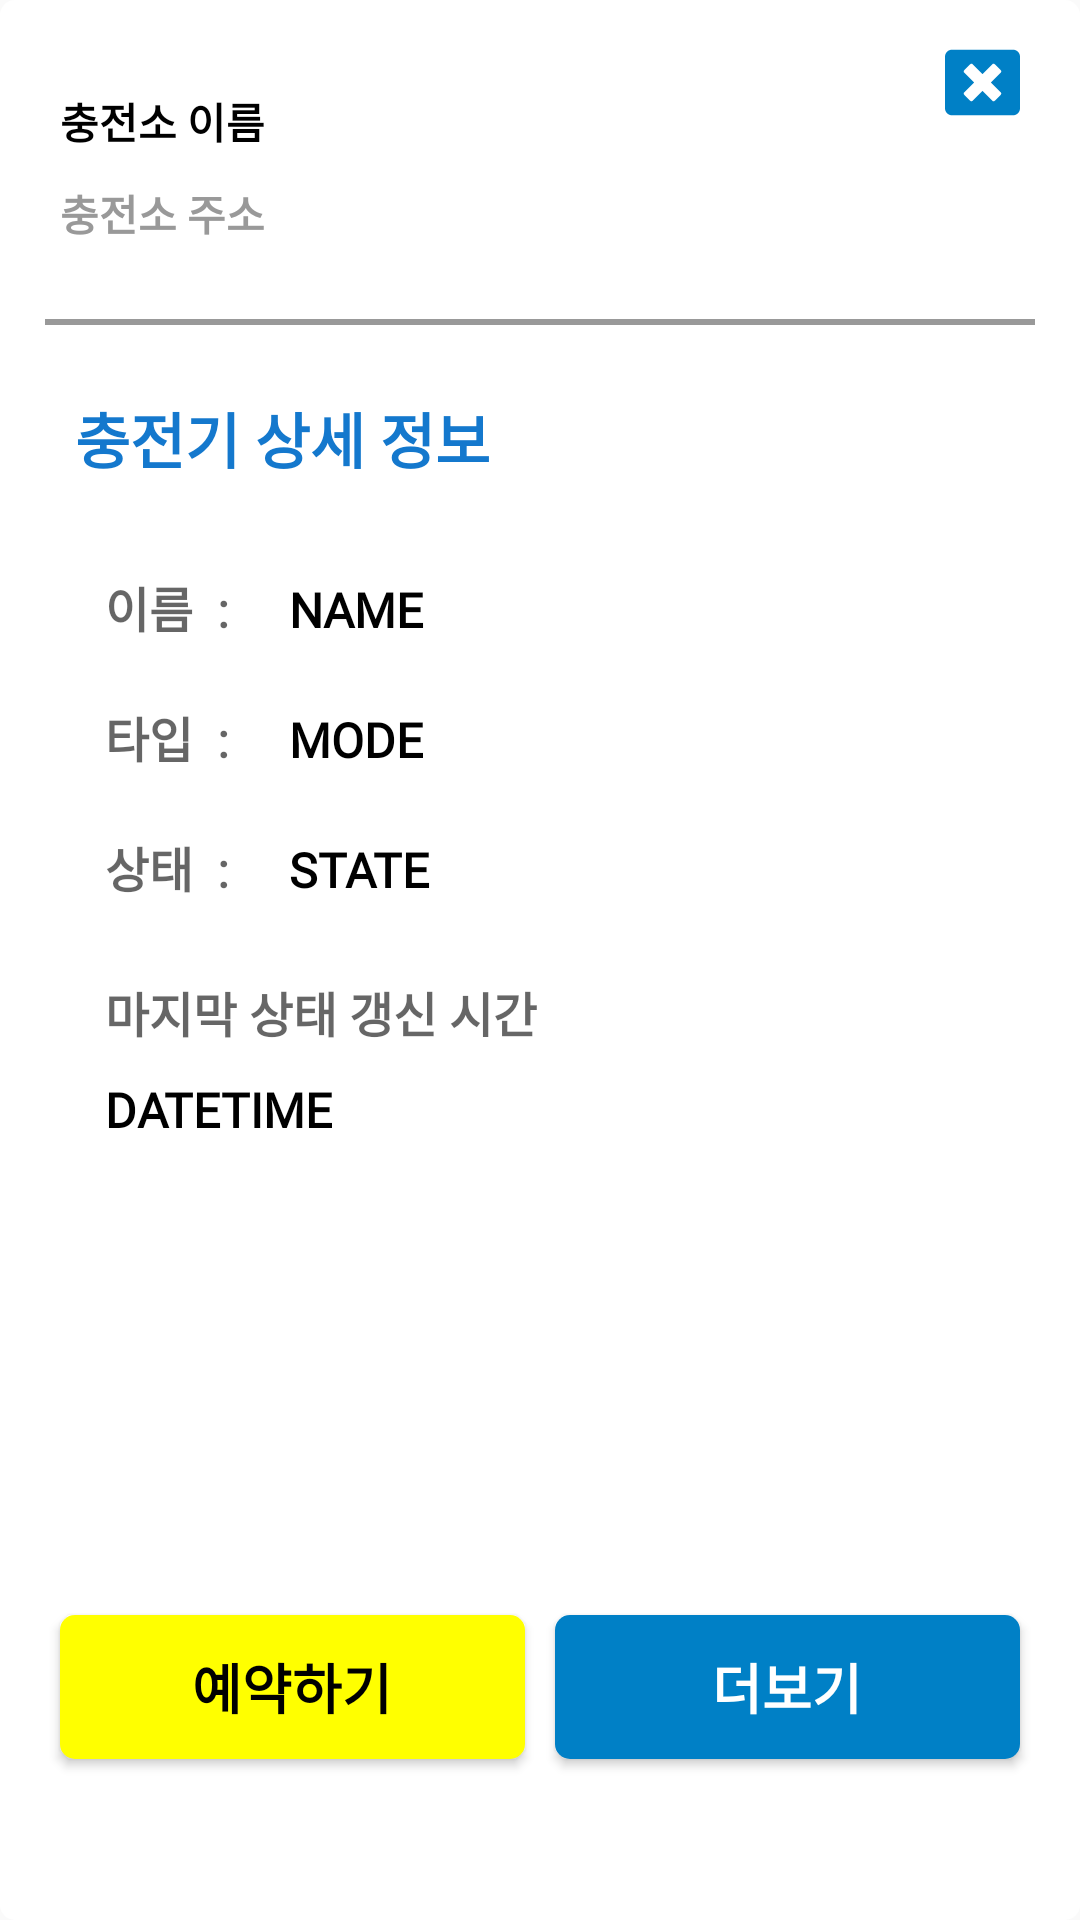

Named icons in this screenshot (1080×1920) and their centers, (x,y):
window close: (982,82)
